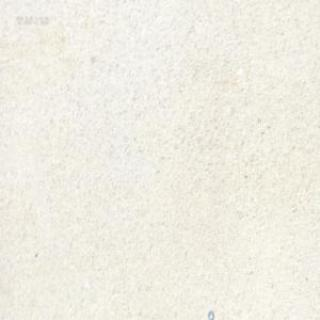Washertrack_idkeyframe: (207, 308, 214, 319)
